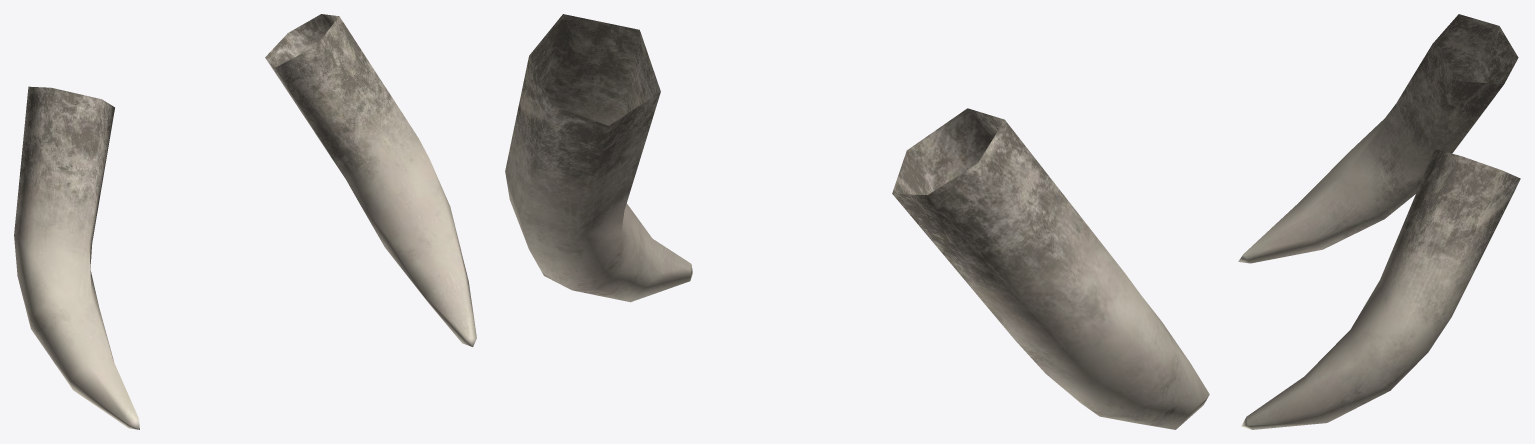
Rendered from tusk-base.glb.
3 views of the same model, side by side, from view 1: azimuth 30°, elevation 25°; view 2: azimuth 150°, elevation 25°; view 3: azimuth 270°, elevation 25° (orthographic). The views are drawn at different scales.
Bounding box in the file's own units: 1.12 × 0.6605 × 0.6524.
1 material, 1 textured.
